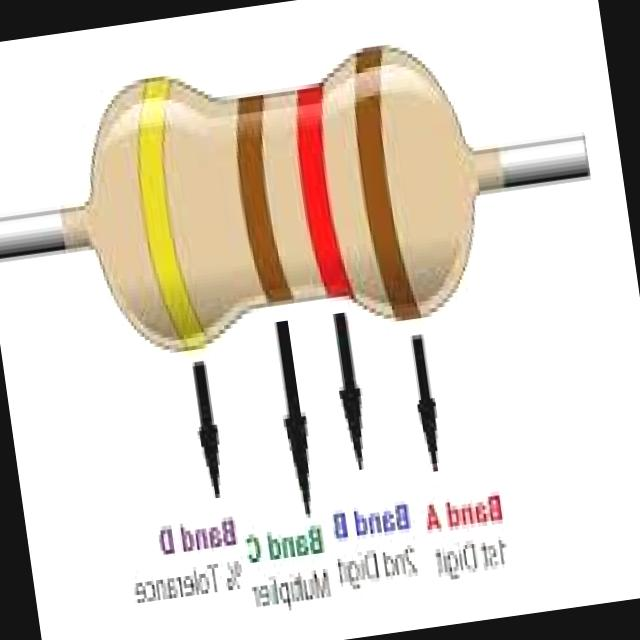Resistor: (91, 48, 477, 345)
brown: (354, 50, 419, 320), (236, 96, 290, 302)
gold: (137, 77, 204, 350)
red: (295, 88, 352, 297)
